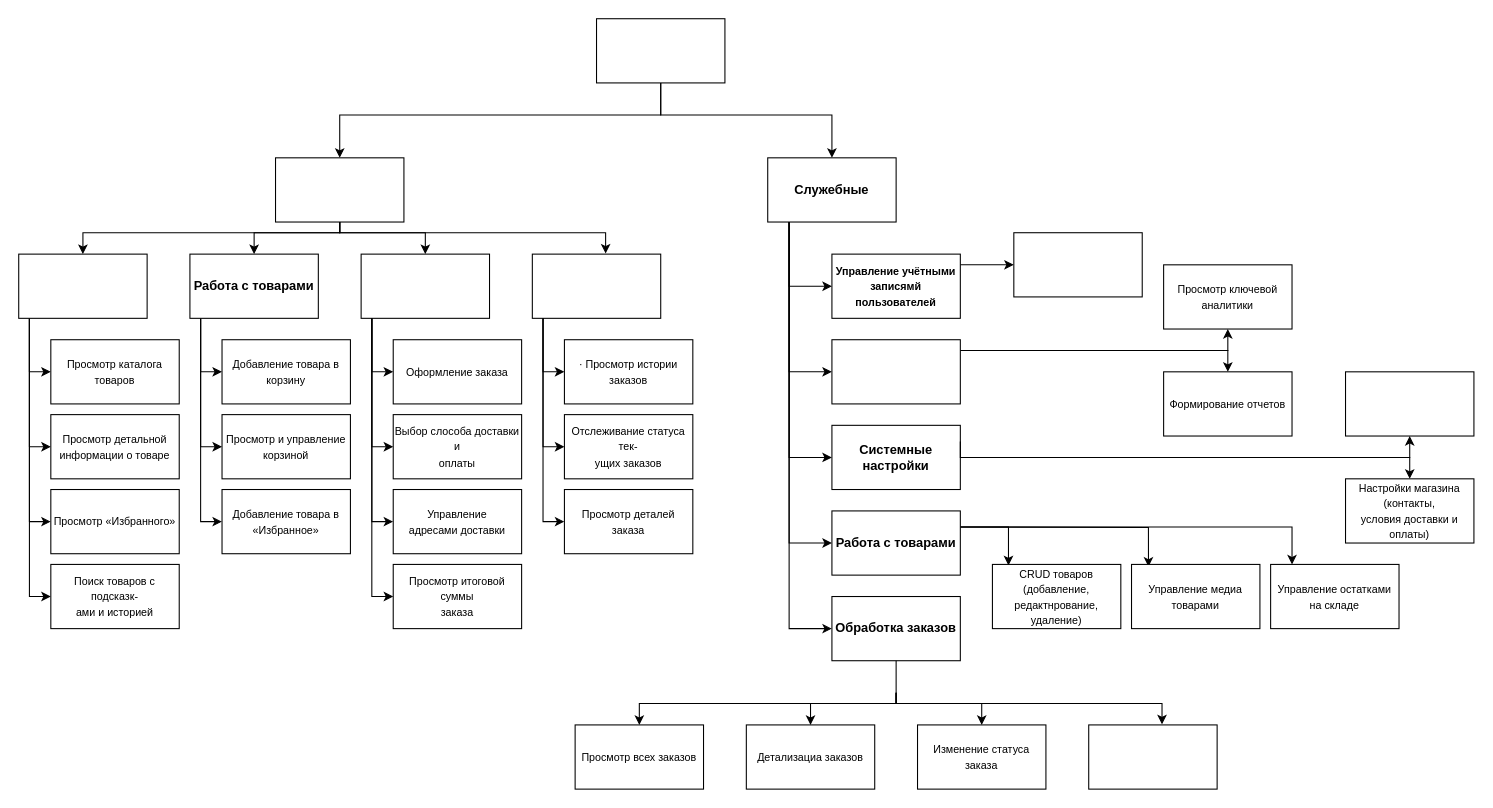
Some shapes in this 1493 by 808 pixel diagram are drawn without their labels. Each missing label, with the centre of its shape:
Аналитика и отчеты: the point at 895,371
История и отслеживание: the point at 596,285
Основные: the point at 339,189
Оформление покупки: the point at 425,285
Просмотр списка полвзоват елей и редактирование про филей: the point at 1077,264
Просмотр товаров: the point at 82,285
Упровление ролами администраторов: the point at 1409,403
Фильтрация заказов: the point at 1152,756
Функции интернет- магазина электроники: the point at 660,50
